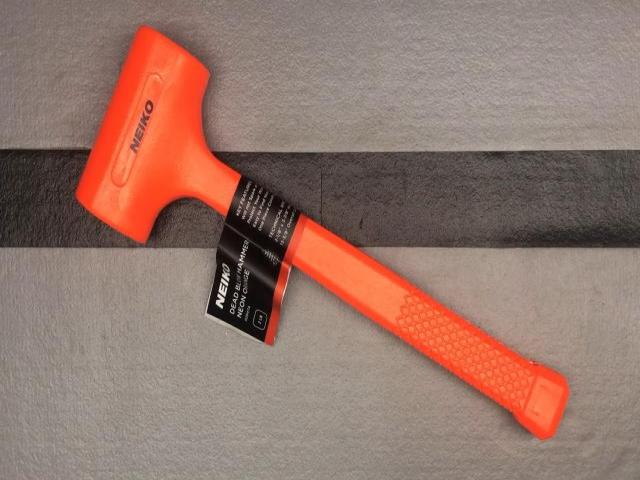hammer: (72, 27, 570, 441)
